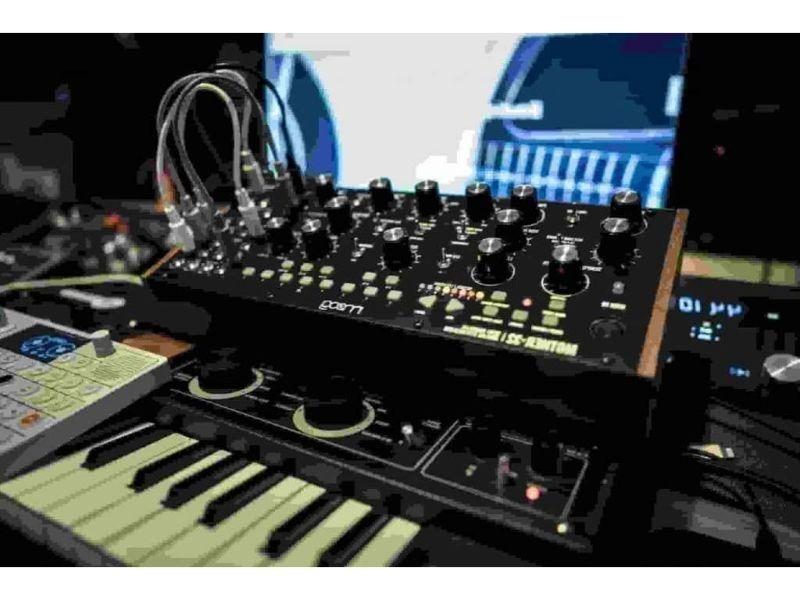synthesizer: (63, 377, 655, 550)
